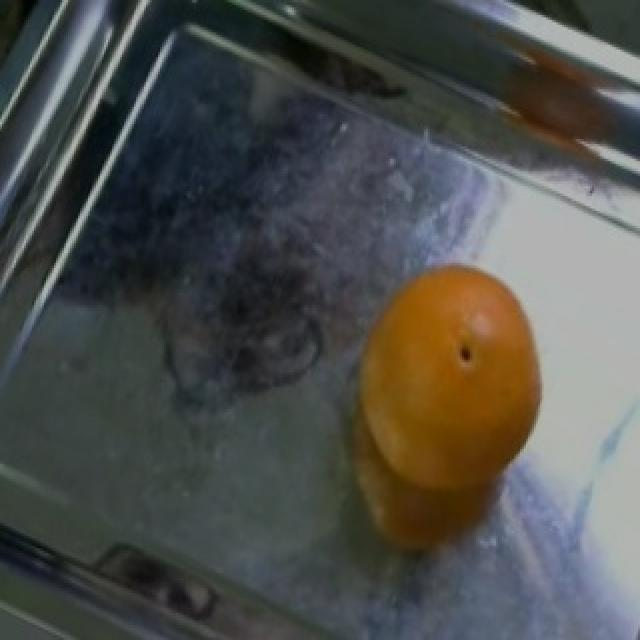Fruit: (328, 241, 568, 563)
